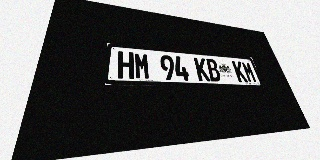4: (173, 56, 190, 81)
9: (160, 55, 176, 80)
B: (205, 58, 222, 82)
H: (117, 51, 134, 79)
K: (194, 57, 210, 81), (232, 61, 248, 82)
M: (134, 52, 151, 80), (241, 62, 258, 83)
